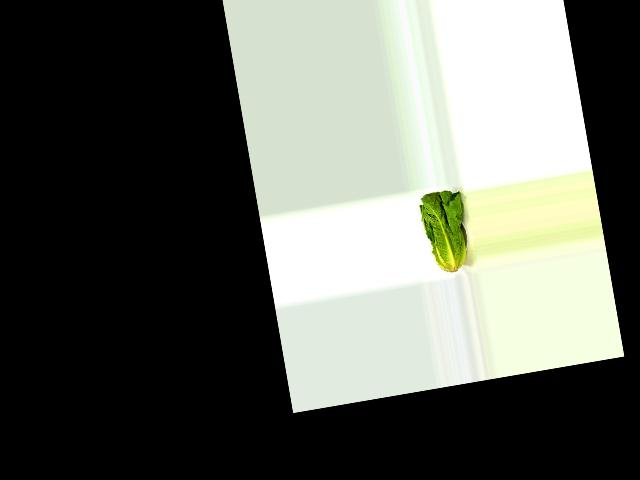lettuce: (416, 187, 474, 276)
